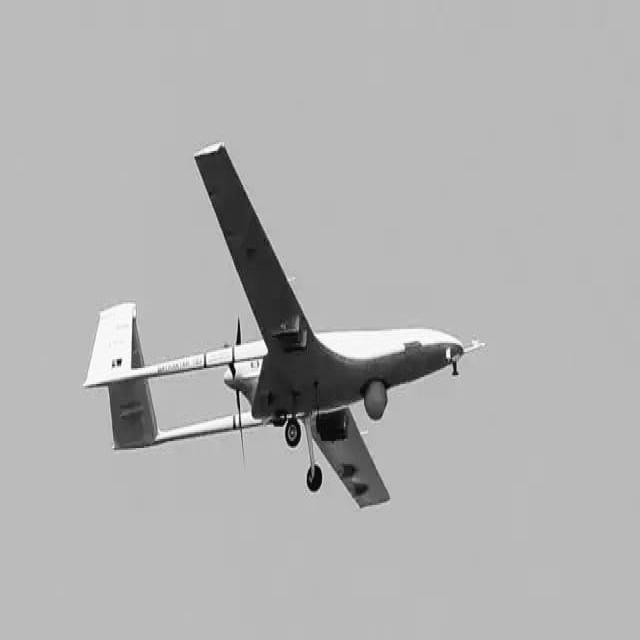iha: (21, 144, 482, 506)
